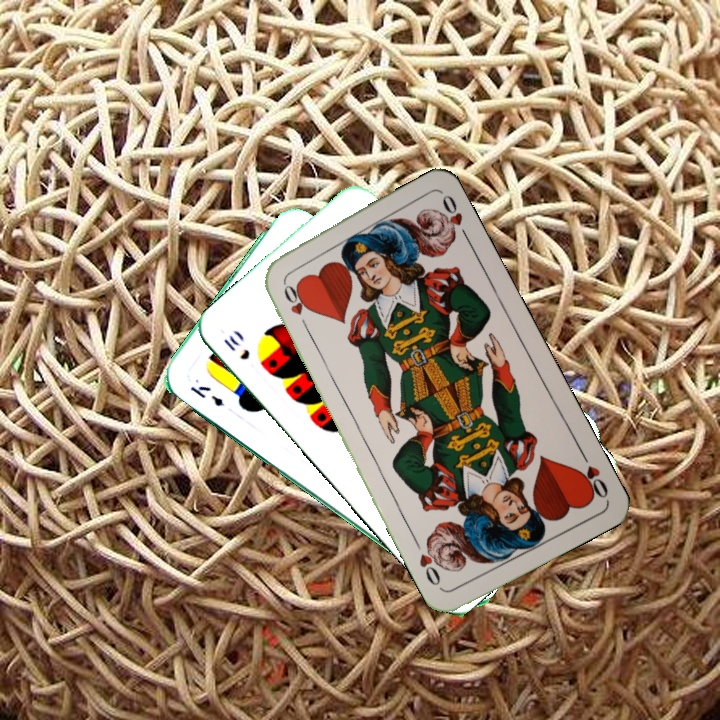EK: (186, 381, 227, 410)
HO: (573, 447, 611, 502), (279, 277, 311, 333)
S10: (219, 330, 252, 363)
